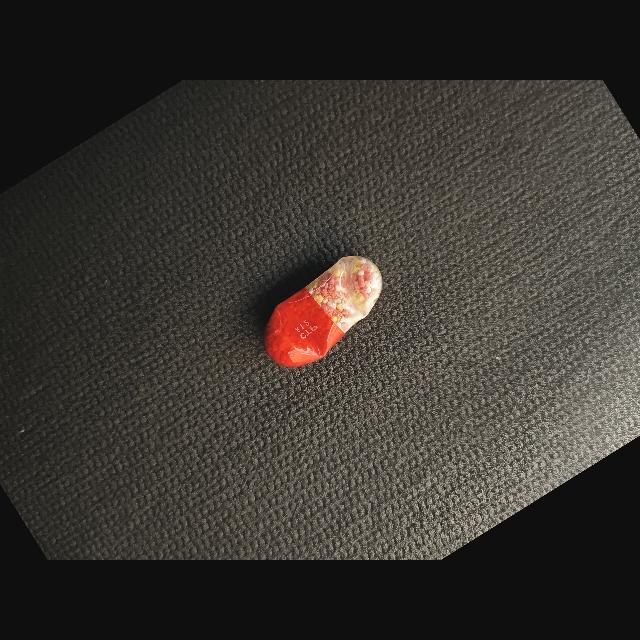Defective Capsule: (264, 256, 383, 367)
